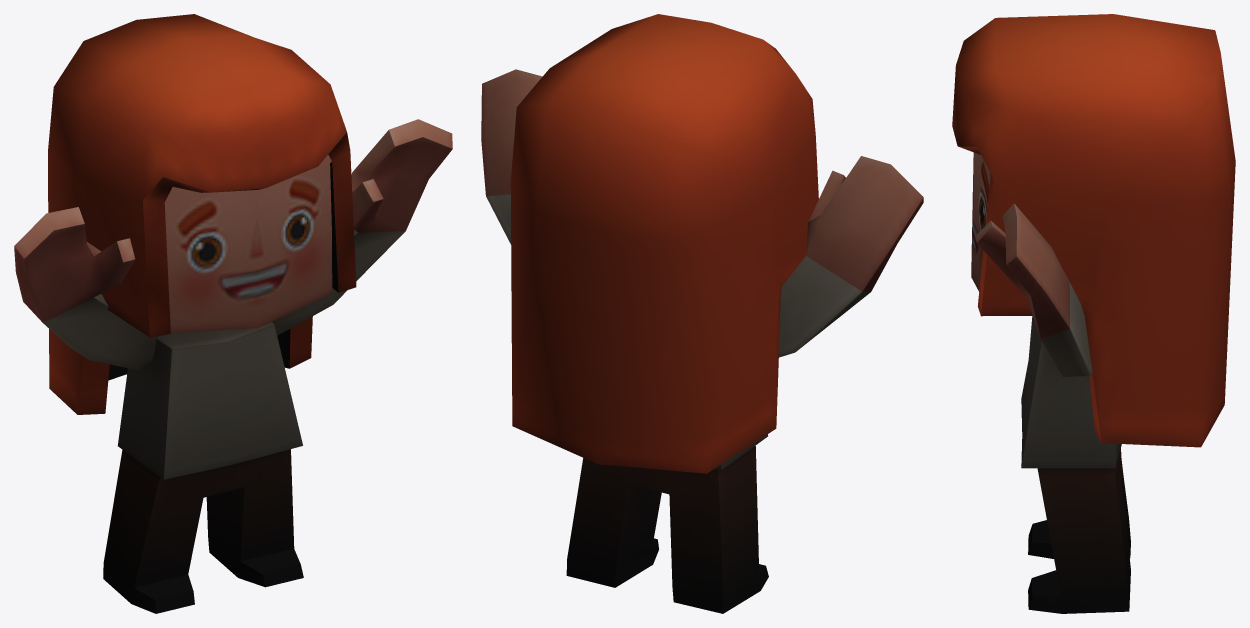
The model's file is Crowd_Var3_FINAL.FBX.
3 views of the same model, side by side, from view 1: azimuth 30°, elevation 25°; view 2: azimuth 150°, elevation 25°; view 3: azimuth 270°, elevation 25° (orthographic). The views are drawn at different scales.
Visible parts, largest first — view 1: Crowd_Var3_FINAL; view 2: Crowd_Var3_FINAL; view 3: Crowd_Var3_FINAL.
Part boxes in pixels (<box>): Crowd_Var3_FINAL: <box>14,14,452,613</box>; Crowd_Var3_FINAL: <box>481,14,923,613</box>; Crowd_Var3_FINAL: <box>952,14,1235,613</box>.
Bounding box in the file's own units: 1.94 × 2.22 × 1.06.
